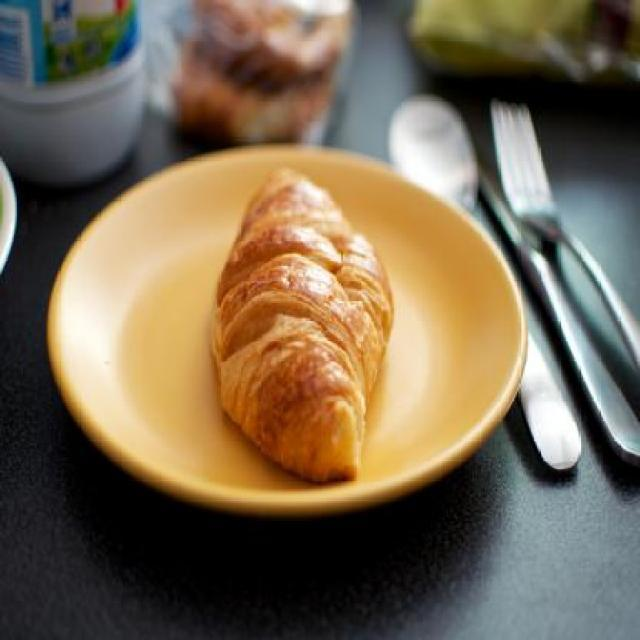Croissant: (209, 166, 397, 474)
